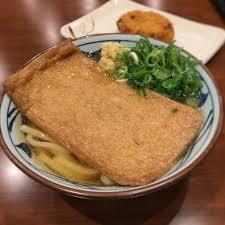kitune: (6, 41, 222, 195)
